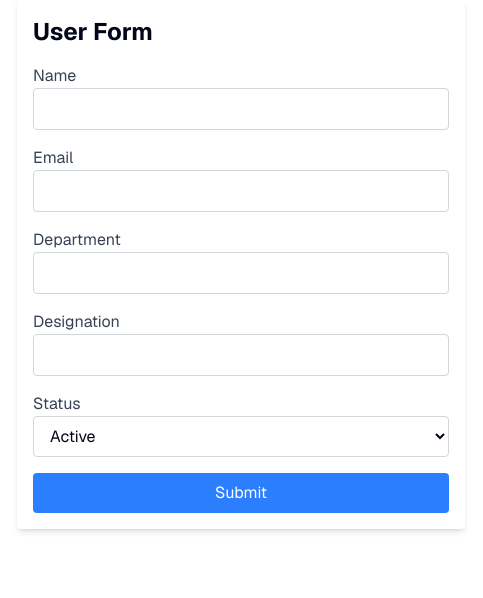
Test case: UserForm Component › shows validation when only some fields are filled and form is submitted
Type "Adarsh Kaul" into the field labelled "Name".
click(241, 109); type("Adarsh Kaul")  # box [33,88,449,130]
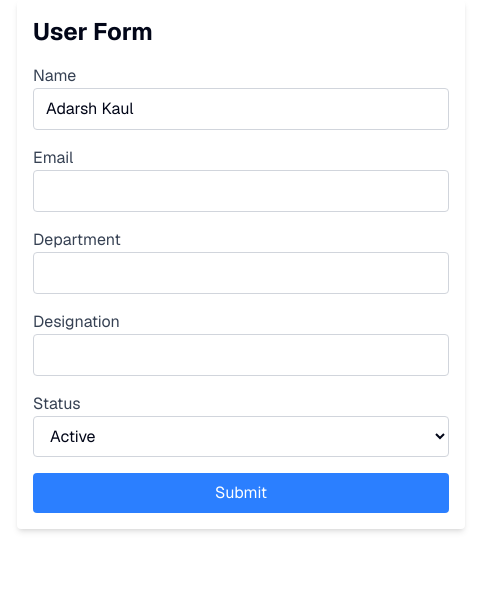
Type "adarsh.kaul@example.com" into the field labelled "Email".
click(241, 191); type("adarsh.kaul@example.com")  # box [33,170,449,212]
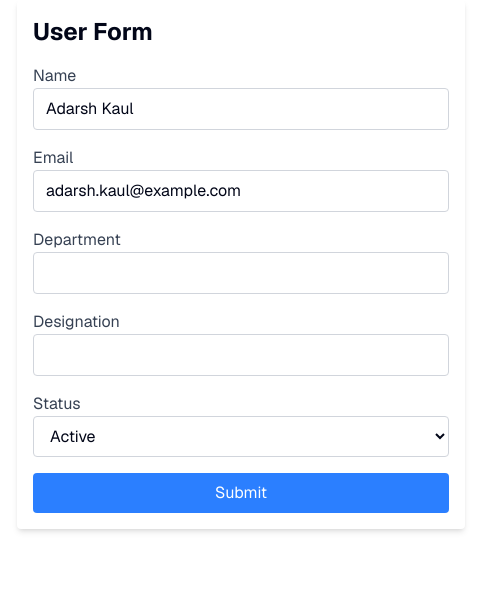
Click the button "Submit".
click(241, 493)  # box [33,473,449,513]
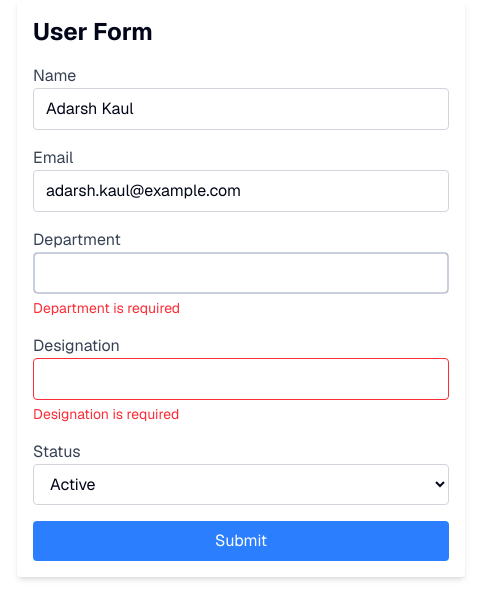
Expected: the text "Department is required" is shown, [33,299,180,317]
Expected: the text "Designation is required" is shown, [33,405,179,423]
